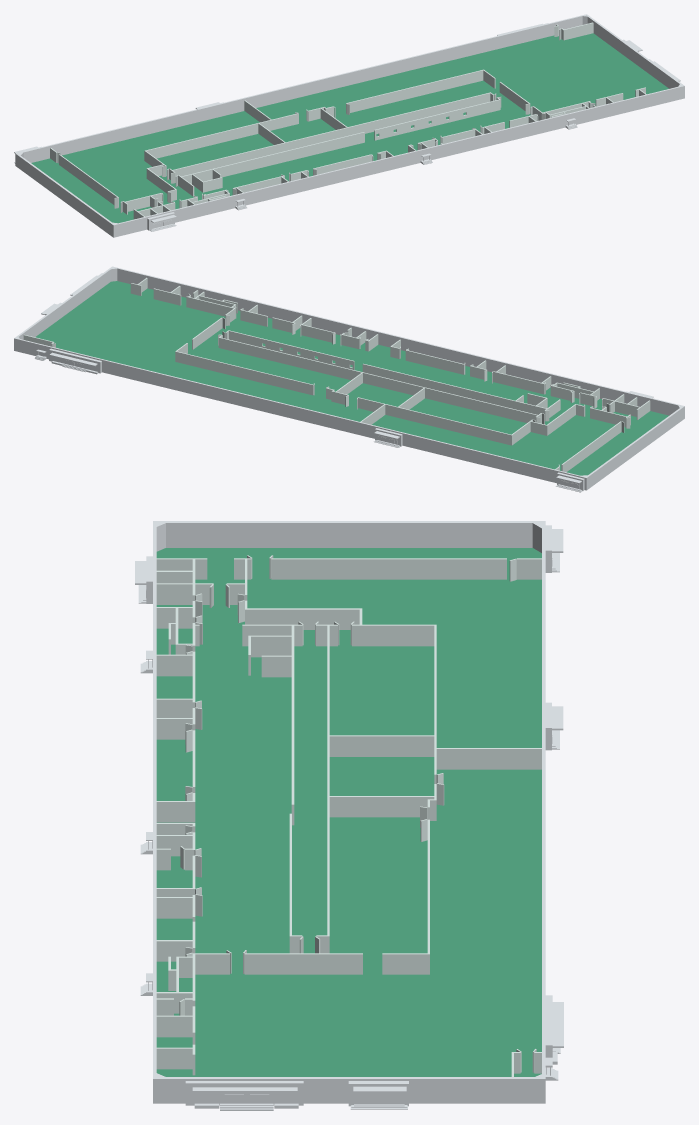
File: oneWall.glb
The picture shows the model from 3 angles, top to bottom: view 1: azimuth 30°, elevation 25°; view 2: azimuth 150°, elevation 25°; view 3: azimuth 270°, elevation 25°; orthographic projection. The views are drawn at different scales.
Parts seen in each view (by area): view 1: 平面, 立方体.1, 立方体.60, 立方体.64, 立方体.58, 立方体.70, 立方体.61, 立方体.50, 立方体.9, 立方体.8; view 2: 平面, 立方体.1, 立方体.60, 立方体.58, 立方体.64, 立方体.70, 立方体.61, 立方体.50, 立方体.9, 立方体.8, 立方体.21, 立方体 (+3 smaller); view 3: 平面, 立方体.1, 立方体.50, 立方体 (×2), 立方体.77, 立方体.66, 立方体.65, 立方体.76, 立方体.53, 立方体.57, 立方体.4, 立方体.43 (+3 smaller).
Boxes of the visible parts, box(x1,y1,x2,y2) form: 平面: box(31, 33, 668, 223); 立方体.1: box(15, 14, 684, 237); 立方体.60: box(172, 92, 490, 176); 立方体.64: box(181, 132, 364, 183); 立方体.58: box(144, 113, 298, 160); 立方体.70: box(346, 70, 483, 113); 立方体.61: box(374, 99, 500, 140); 立方体.50: box(59, 154, 118, 207); 立方体.9: box(313, 154, 371, 175); 立方体.8: box(232, 175, 284, 194); 平面: box(35, 281, 668, 475); 立方体.1: box(14, 266, 684, 490); 立方体.60: box(218, 337, 537, 422); 立方体.58: box(358, 397, 512, 445); 立方体.64: box(362, 363, 546, 414); 立方体.70: box(175, 351, 313, 395); 立方体.61: box(228, 330, 354, 369); 立方体.50: box(561, 421, 621, 472); 立方体.9: box(405, 350, 464, 374); 立方体.8: box(493, 371, 544, 394); 立方体.21: box(186, 296, 234, 316); 立方体: box(49, 348, 101, 373); 平面: box(156, 548, 541, 1076); 立方体.1: box(153, 521, 545, 1103); 立方体.50: box(271, 558, 506, 579); 立方体 (×2): box(185, 1081, 408, 1106); 立方体.77: box(244, 953, 362, 974); 立方体.66: box(328, 735, 434, 756); 立方体.65: box(436, 748, 541, 769); 立方体.76: box(328, 796, 434, 817); 立方体.53: box(245, 608, 362, 629); 立方体.57: box(352, 624, 435, 646); 立方体.4: box(156, 583, 213, 604); 立方体.43: box(382, 953, 429, 974).
Size of the model in its own units: 4982 by 106 by 1597.
